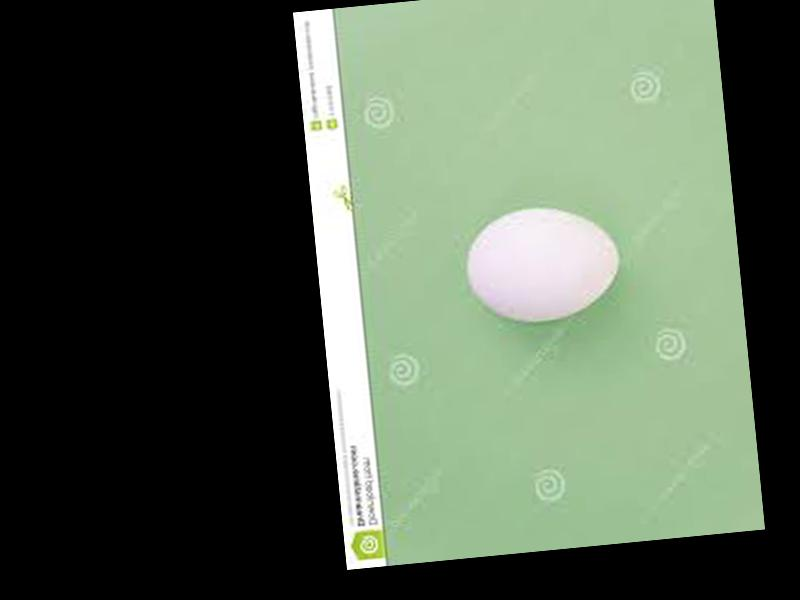Eggs: (462, 202, 622, 329)
